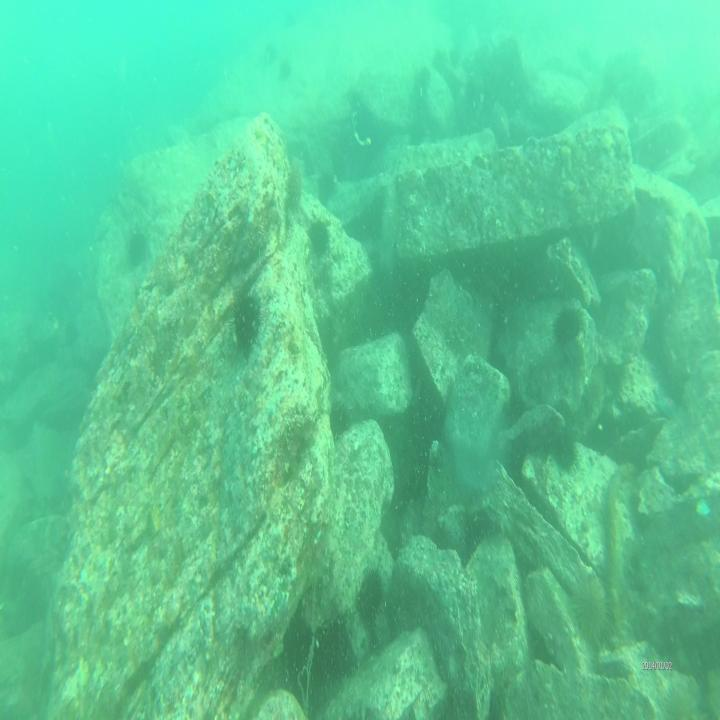echinus: (572, 570, 614, 652), (232, 285, 264, 354), (355, 561, 387, 629), (552, 295, 586, 349), (552, 422, 580, 478), (285, 163, 305, 220), (604, 356, 629, 401), (127, 228, 150, 266), (308, 217, 331, 255), (328, 402, 352, 438), (279, 54, 294, 86), (264, 39, 276, 65)
